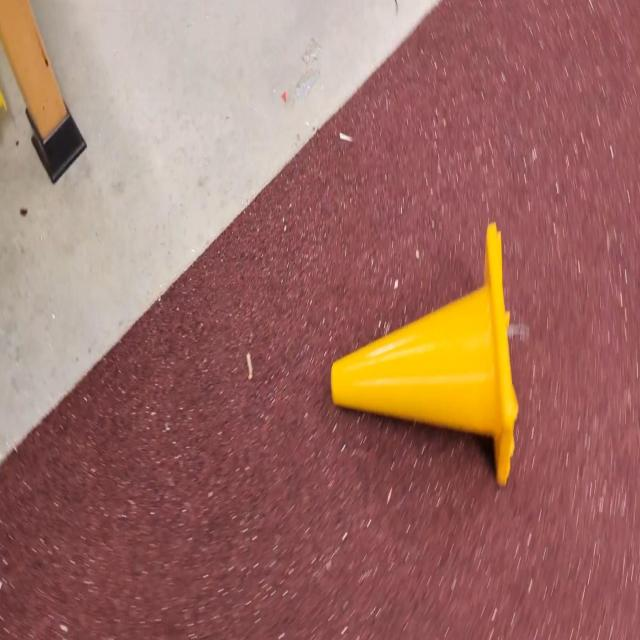frc_cone: (331, 230, 518, 487)
